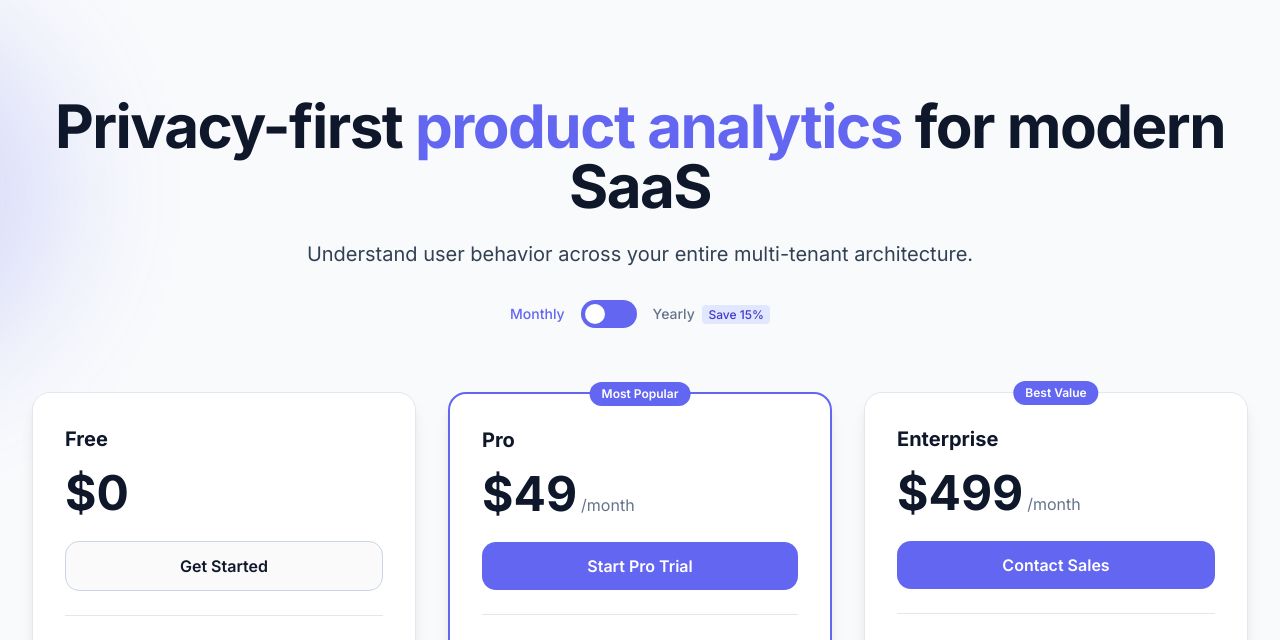
Scenario: Pricing Component › Billing Toggle › switches to yearly pricing when toggle is clicked
Expected: the text "$49" is shown, x1=482 y1=464 x2=577 y2=523
What coordinates should you click on to do the following:
click the switch
I would click on:
 (609, 314)
Its box is x1=581 y1=300 x2=637 y2=328.
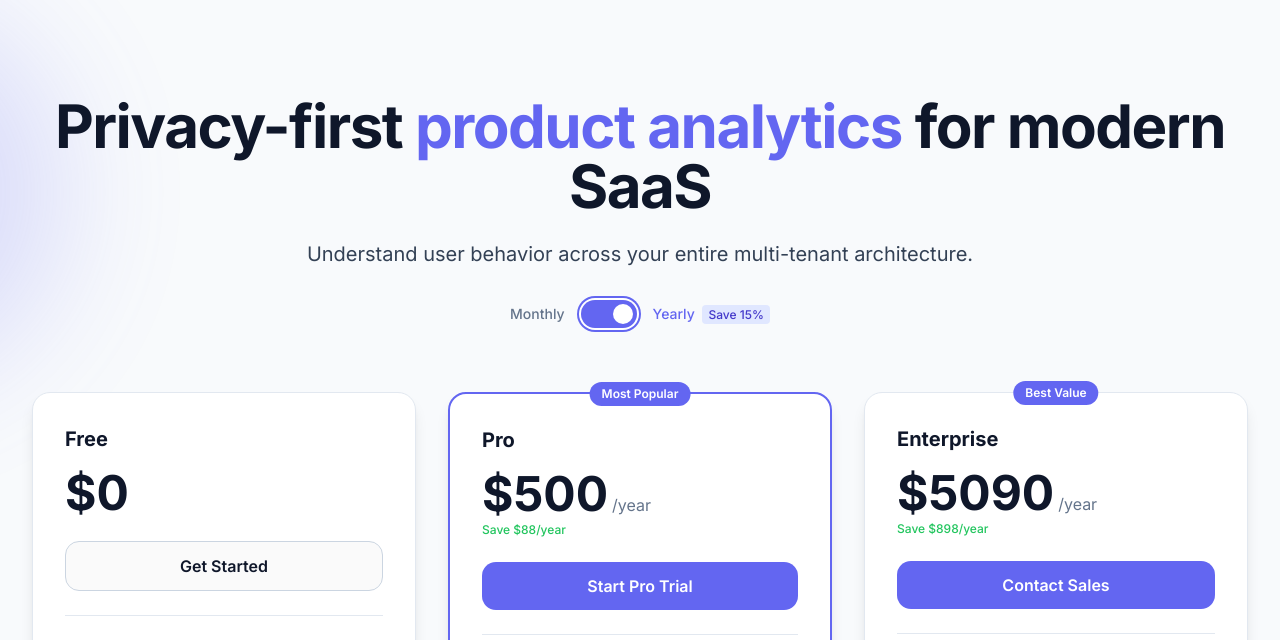
Expected: the text "$500" is shown, x1=482 y1=464 x2=608 y2=523
Expected: the text "/year" next to "$500" is shown, x1=612 y1=495 x2=651 y2=515
